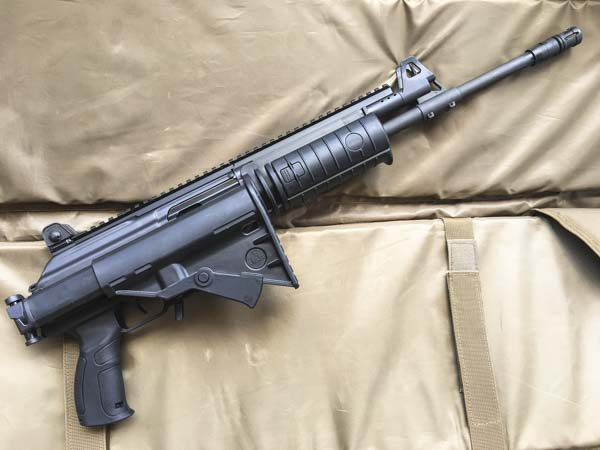ak47: (10, 7, 582, 430)
